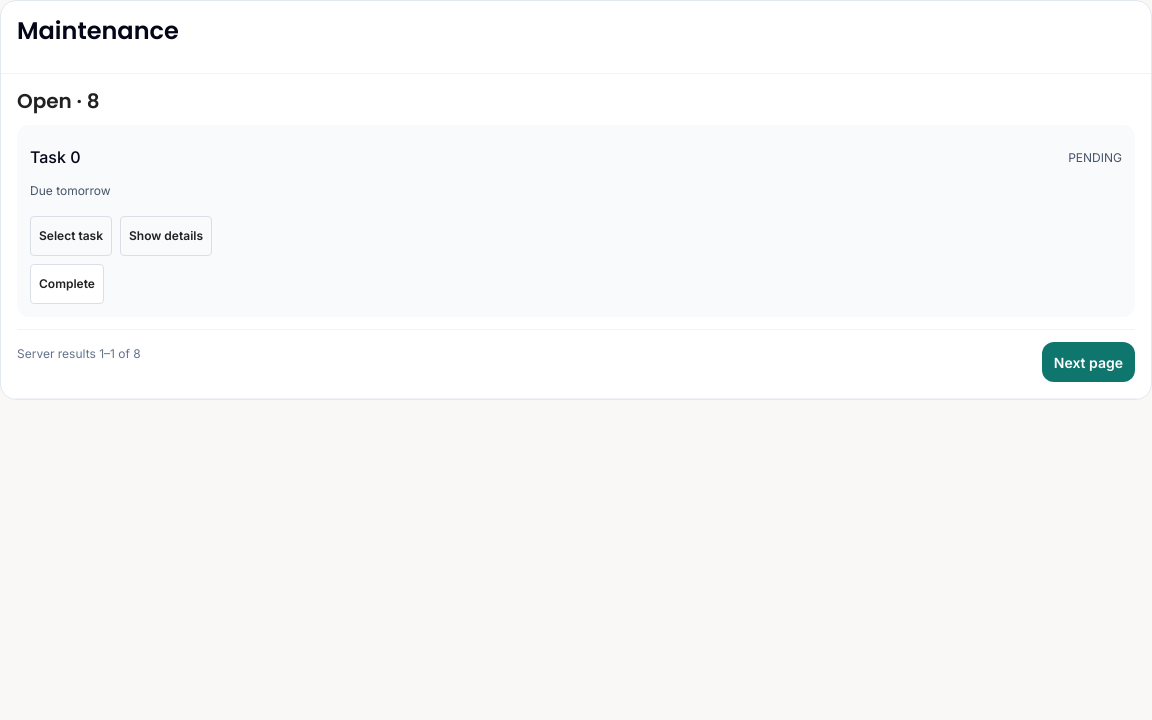
Test: deleted task detail is distinct and removes stale actions until refresh
The width and height of the screenshot is (1152, 720).
Click the button "Task 0": (55, 158) [30, 138, 80, 178]
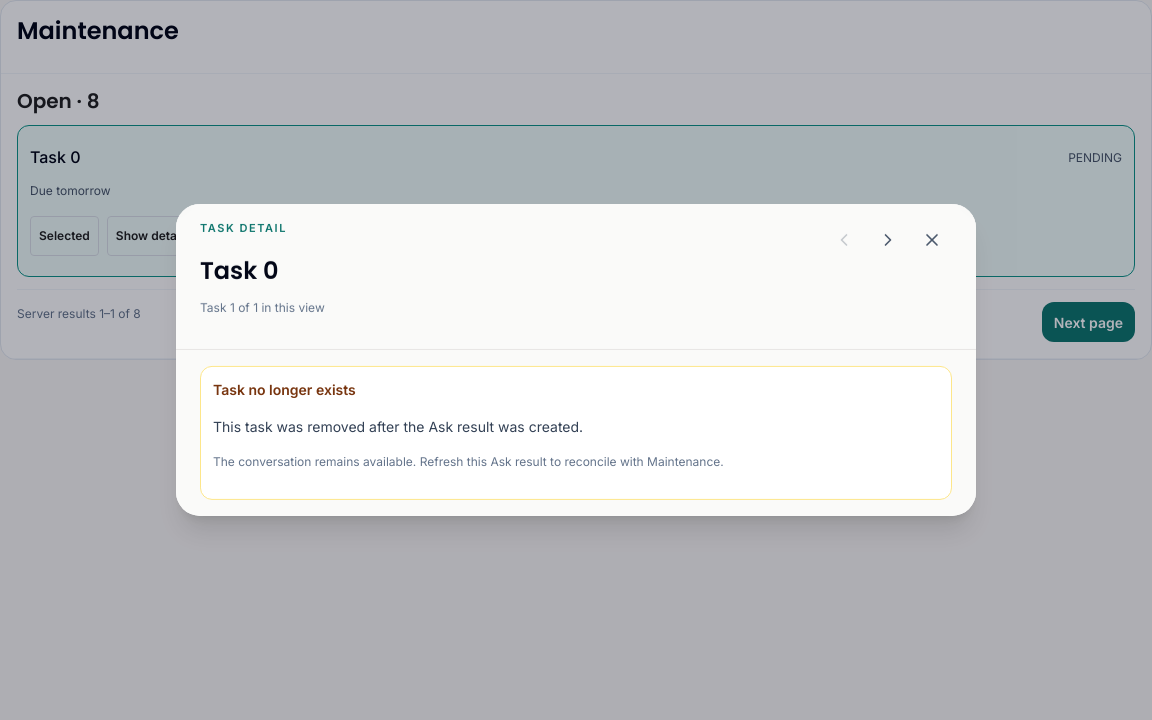
Expected: the message shows "Task no longer exists", [213, 381, 356, 398]
Expected: the button "Complete" is gone
